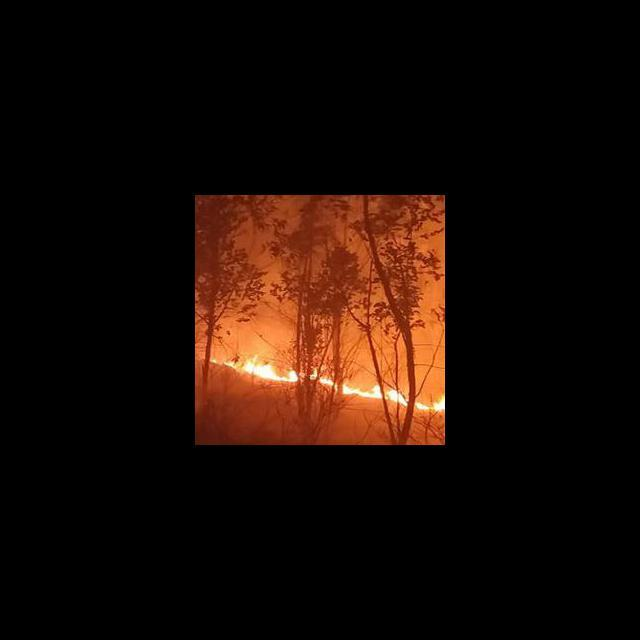Fire: (239, 358, 445, 412)
